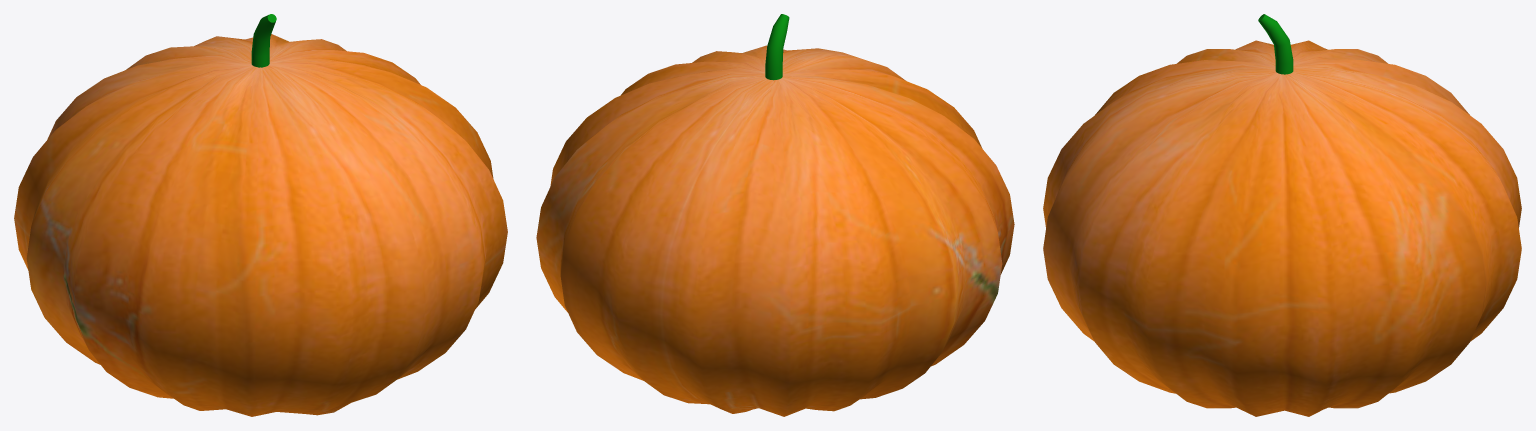
Rendered from pumking.FBX.
3 views of the same model, side by side, from view 1: azimuth 30°, elevation 25°; view 2: azimuth 150°, elevation 25°; view 3: azimuth 270°, elevation 25° (orthographic). The views are drawn at different scales.
Visible parts, largest first — view 1: Sphere001, Cone001; view 2: Sphere001, Cone001; view 3: Sphere001, Cone001.
Part boxes in pixels (x1,y1,x2,y2): Sphere001: [14, 34, 507, 416]; Cone001: [251, 14, 276, 67]; Sphere001: [536, 45, 1014, 416]; Cone001: [765, 14, 789, 80]; Sphere001: [1043, 40, 1521, 416]; Cone001: [1258, 14, 1293, 74].
Size of the model in its own units: 74.87 by 64.41 by 74.87.
2 materials, 1 textured.
